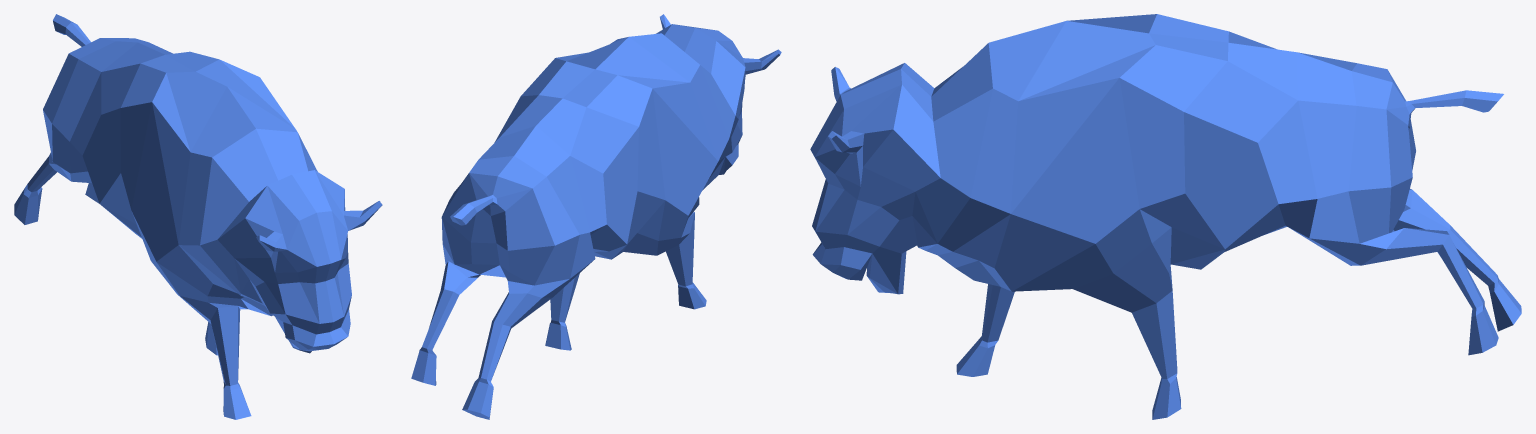
File: bison_012.obj
The picture shows the model from 3 angles, left to right: view 1: azimuth 30°, elevation 25°; view 2: azimuth 150°, elevation 25°; view 3: azimuth 270°, elevation 25°; orthographic projection. The views are drawn at different scales.
Parts seen in each view (by area): view 1: comp_bison_rig:bison_body comp_bison_rig:bison; view 2: comp_bison_rig:bison_body comp_bison_rig:bison; view 3: comp_bison_rig:bison_body comp_bison_rig:bison.
Boxes of the visible parts, x1,y1,x2,y2 form: comp_bison_rig:bison_body comp_bison_rig:bison: (14,14,382,419); comp_bison_rig:bison_body comp_bison_rig:bison: (411,14,781,419); comp_bison_rig:bison_body comp_bison_rig:bison: (810,14,1521,419).
Size of the model in its own units: 107 by 196 by 337.
